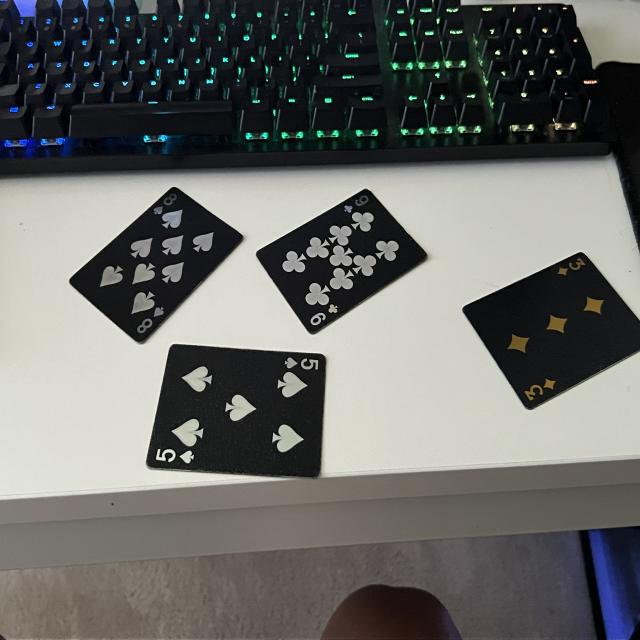3D: (519, 369, 561, 404), (553, 254, 589, 281)
5S: (153, 444, 196, 466), (283, 355, 322, 373)
8S: (134, 302, 167, 340), (150, 189, 182, 220)
9C: (306, 299, 343, 330), (338, 189, 372, 216)
